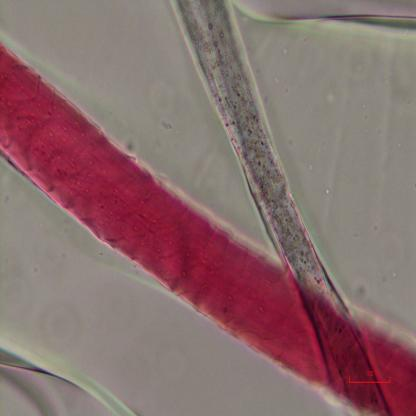Air bubble: (0, 348, 127, 416), (232, 0, 415, 36)
Background material: (354, 280, 370, 298), (157, 116, 173, 132)
Hair textile: (0, 42, 416, 414)
Microfibre: (172, 0, 386, 407)
